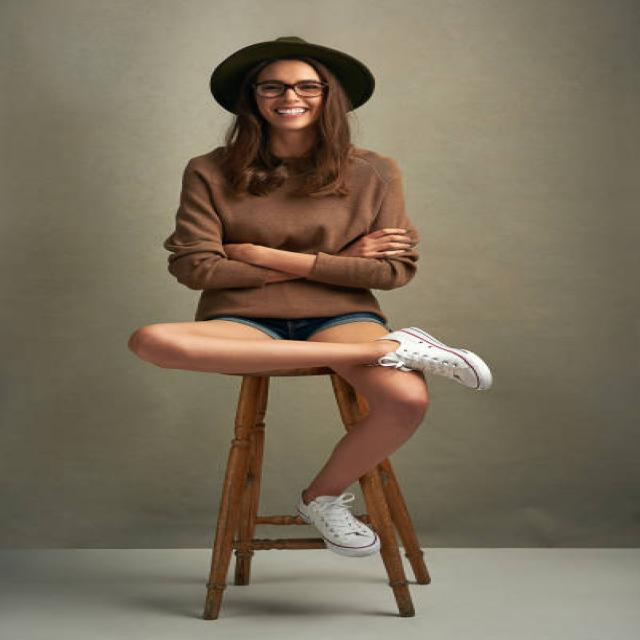Real human 2: (114, 26, 518, 576)
